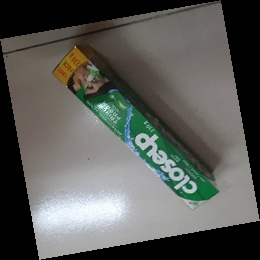CloseUp Xanh: (53, 44, 219, 211)
